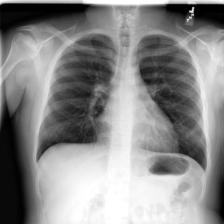normal: (33, 29, 210, 175)
